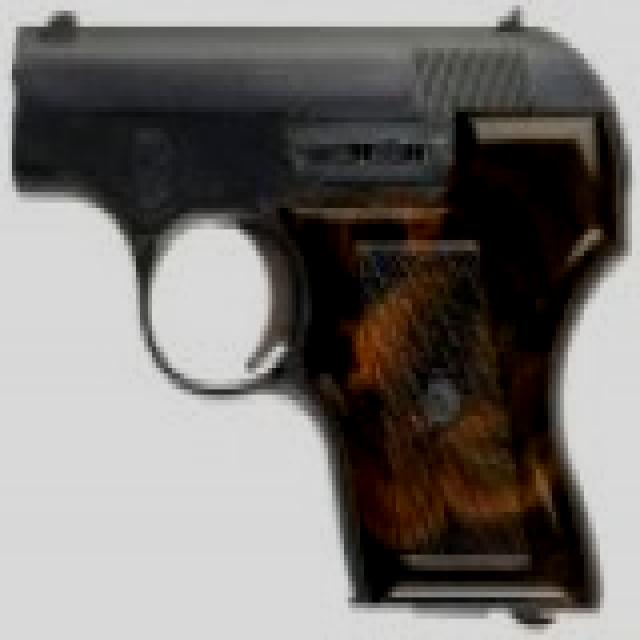pistol: (16, 0, 640, 608)
